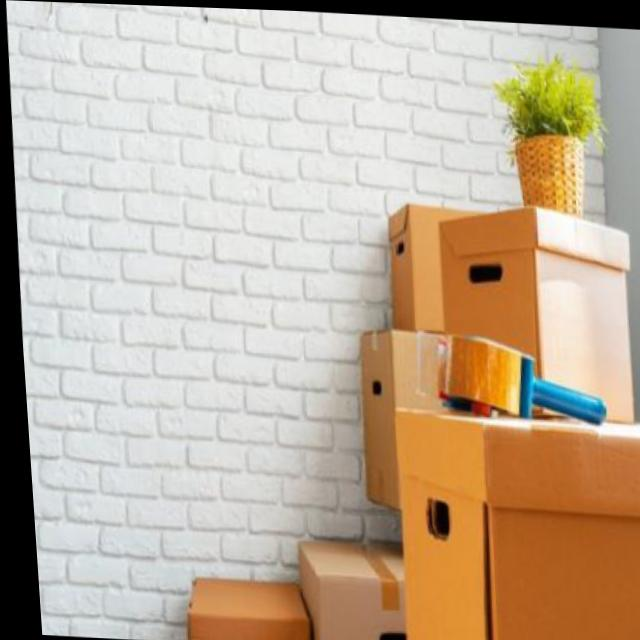box: (381, 403, 640, 640), (429, 203, 640, 441), (342, 314, 481, 554), (373, 164, 461, 355), (287, 517, 412, 640), (169, 556, 316, 640)
